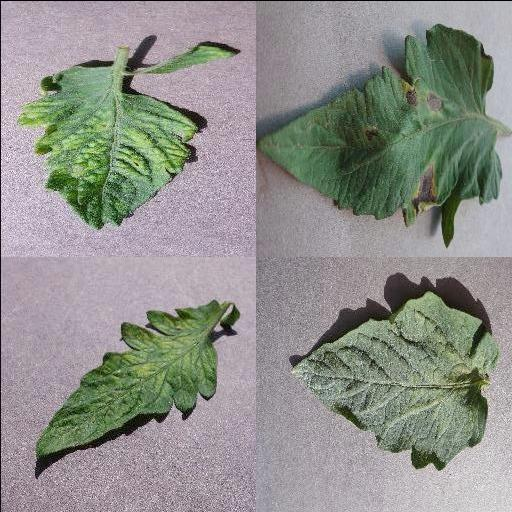Early Blight: (256, 21, 503, 246)
Mosaic Virus: (33, 298, 223, 460), (16, 63, 198, 231), (140, 42, 238, 74)
Spider Mites: (289, 291, 499, 471)
